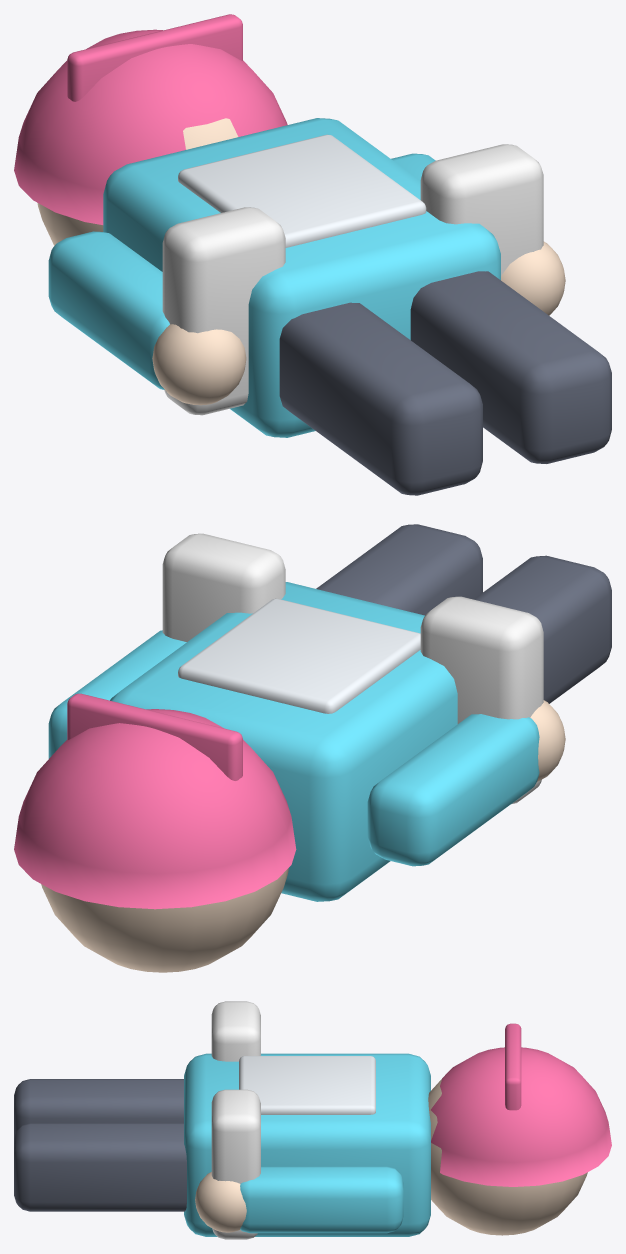
The model's file is character.glb.
3 renders of one model, top to bottom at view 1: azimuth 30°, elevation 25°; view 2: azimuth 150°, elevation 25°; view 3: azimuth 270°, elevation 25°, orthographic. The views are drawn at different scales.
Parts seen in each view (by area): view 1: torso, legL, cap, legR, chest, shoeL, armL, shoeR, handL, capbrim, handR, head; view 2: cap, torso, armL, chest, head, shoeL, legL, legR, shoeR, capbrim, armR, handL; view 3: torso, cap, legR, armR, chest, legL, head, shoeR, shoeL, handR, capbrim.
Part boxes in pixels (<box>): torso: <box>103,118,500,437</box>; legL: <box>279,302,482,495</box>; cap: <box>14,29,287,224</box>; legR: <box>410,271,611,463</box>; chest: <box>178,134,426,247</box>; shoeL: <box>162,207,285,415</box>; armL: <box>48,231,169,389</box>; shoeR: <box>420,144,543,276</box>; handL: <box>152,324,246,405</box>; capbrim: <box>67,14,242,101</box>; handR: <box>501,241,565,315</box>; head: <box>37,118,238,245</box>; cap: <box>14,709,296,909</box>; torso: <box>110,582,457,901</box>; armL: <box>367,714,539,866</box>; chest: <box>178,598,420,713</box>; head: <box>41,868,288,972</box>; shoeL: <box>420,596,543,804</box>; legL: <box>473,555,611,703</box>; legR: <box>316,524,482,615</box>; shoeR: <box>162,533,285,641</box>; capbrim: <box>67,693,242,780</box>; armR: <box>48,630,186,758</box>; handL: <box>530,700,565,781</box>; torso: <box>184,1053,430,1236</box>; cap: <box>431,1047,611,1186</box>; legR: <box>14,1123,186,1211</box>; armR: <box>240,1166,403,1233</box>; chest: <box>239,1056,375,1114</box>; legL: <box>14,1079,183,1138</box>; head: <box>428,1079,587,1235</box>; shoeR: <box>211,1089,260,1239</box>; shoeL: <box>211,1001,260,1061</box>; handR: <box>195,1172,246,1232</box>; capbrim: <box>505,1023,521,1110</box>.
Bounding box in the file's own units: 1.18 × 0.71 × 2.18.
